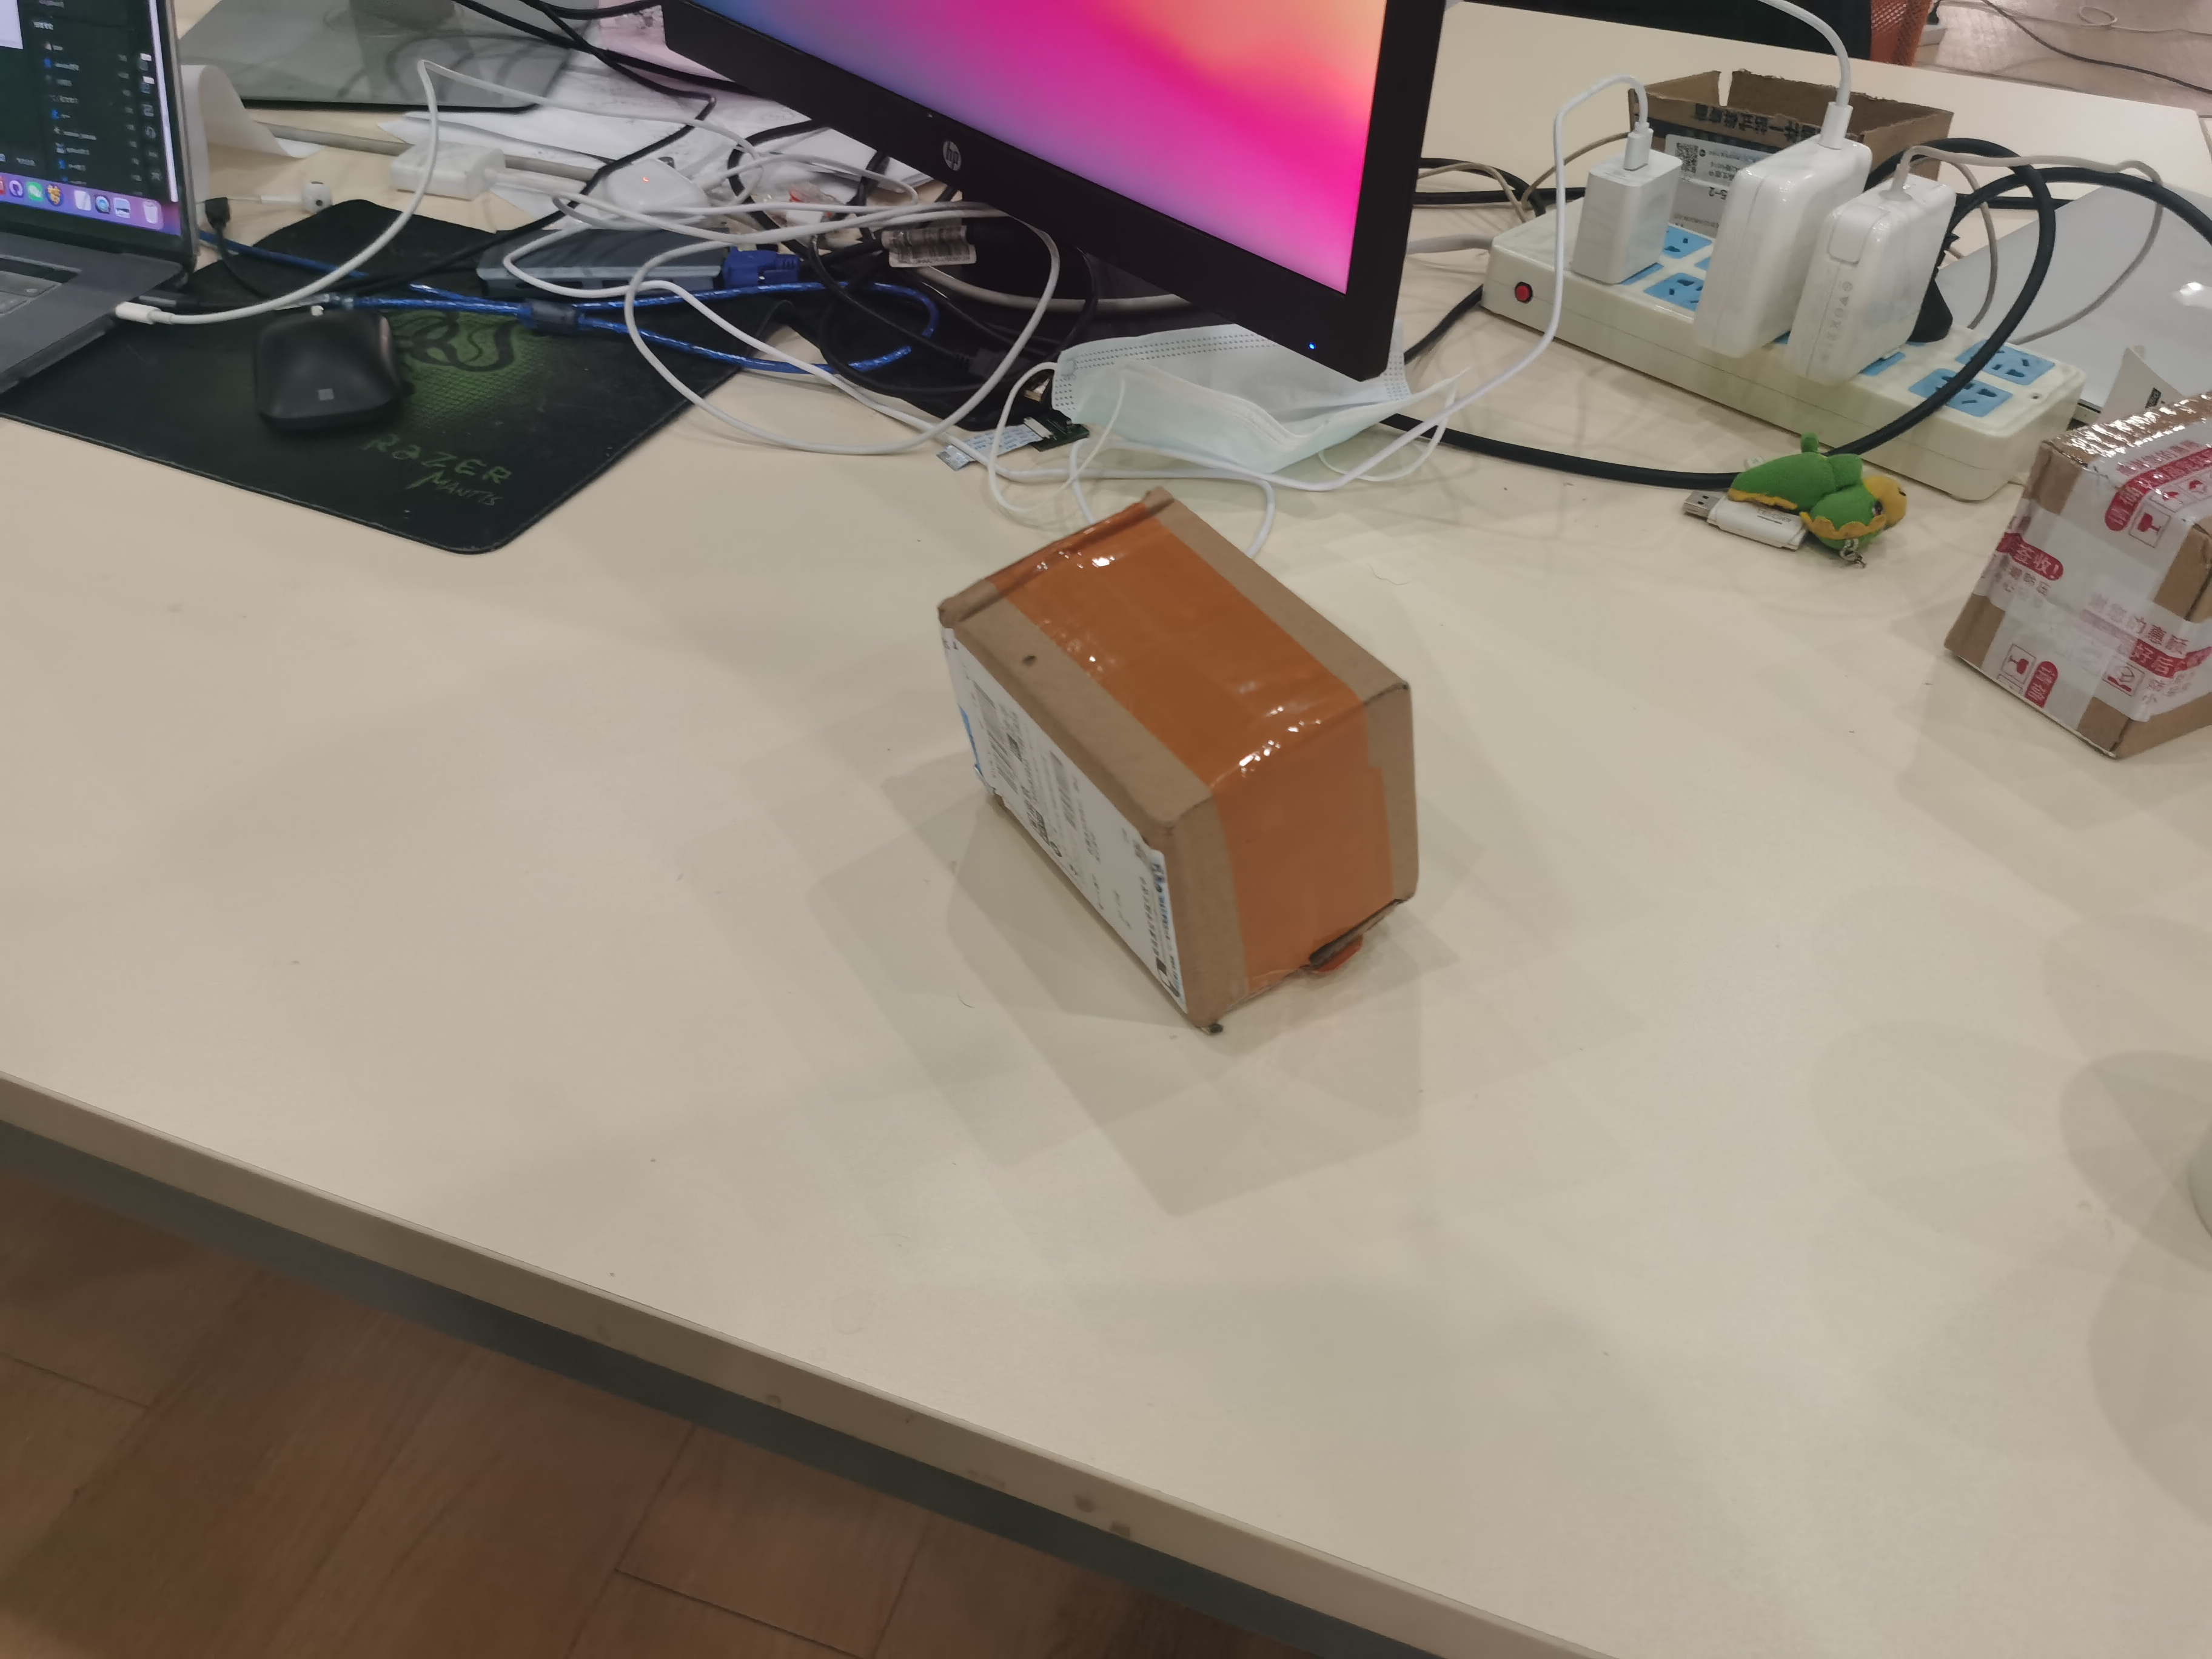box: (932, 483, 1444, 1023), (1939, 371, 2212, 762)
